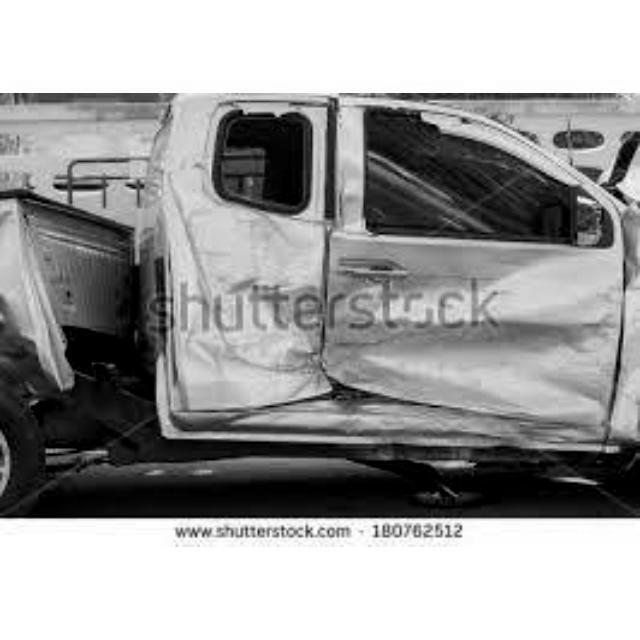doorouter-dent: (328, 112, 575, 444), (176, 110, 315, 410), (250, 524, 252, 526)
